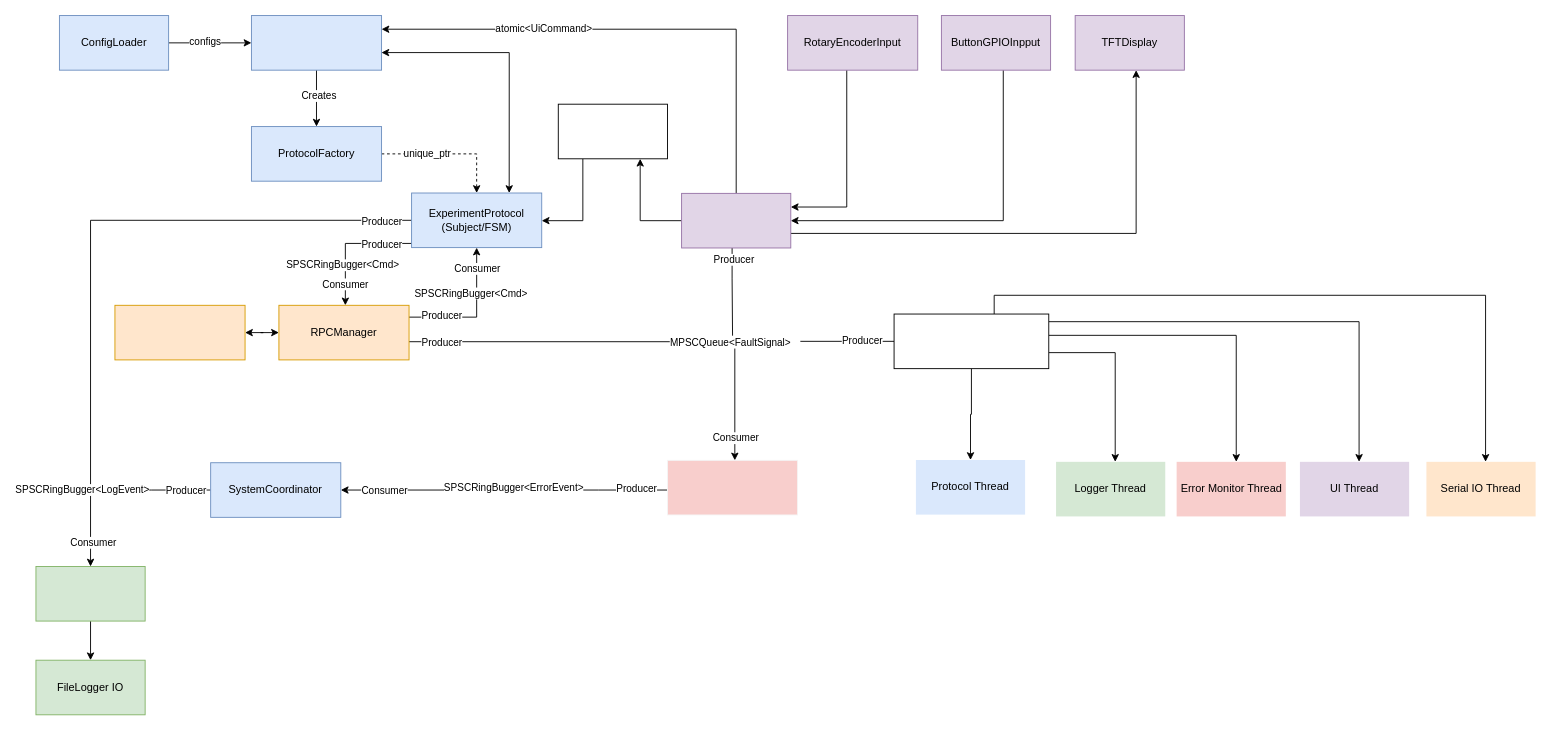
Some shapes in this 1551 by 732 pixel diagram are drawn without their labels. The shapes that lost their labels are listed below. From the top down, each one's centre as x and y in pixels, then its label:
point (316, 42): SystemCoordinator (Observer/FSM)
point (612, 131): ParameterStore (Mutex Guarded)
point (736, 220): UIController
point (179, 332): Serial IO's
point (971, 341): ThreadHeartBeatProb
point (732, 487): ErrorMonitor
point (90, 593): Logger
